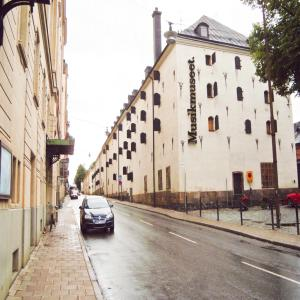Vehicle-registration-plate: (96, 222, 106, 226)
